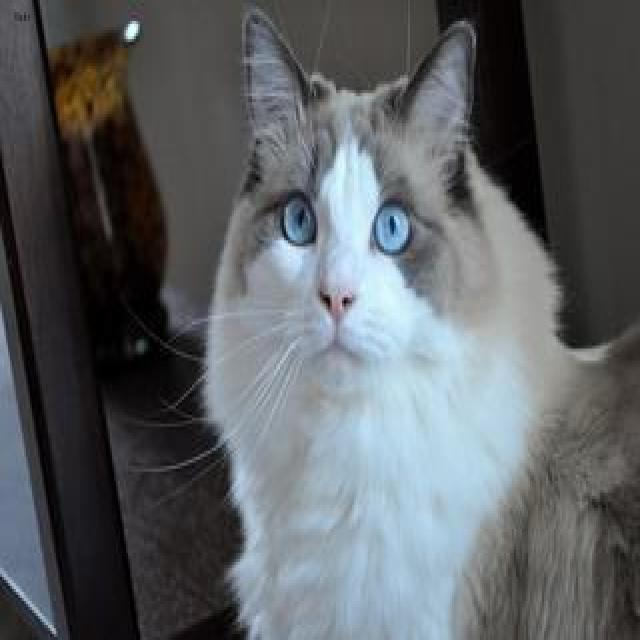Ragdoll: (238, 6, 472, 391)
